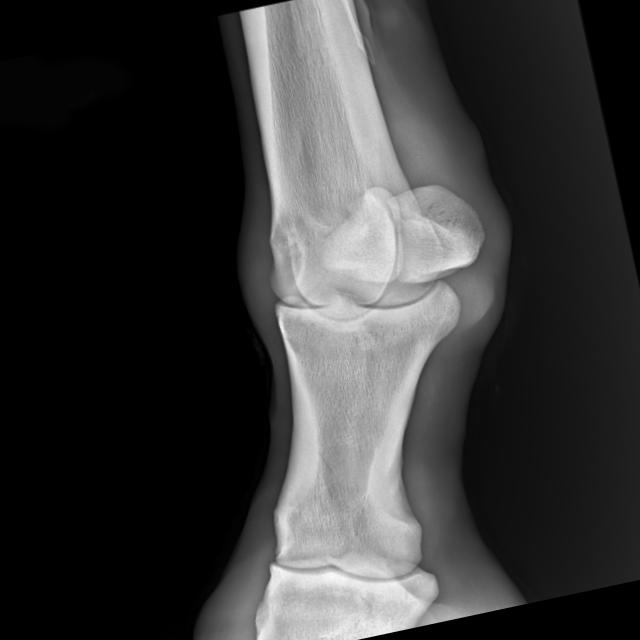joint-ht8A: (188, 122, 520, 419)
